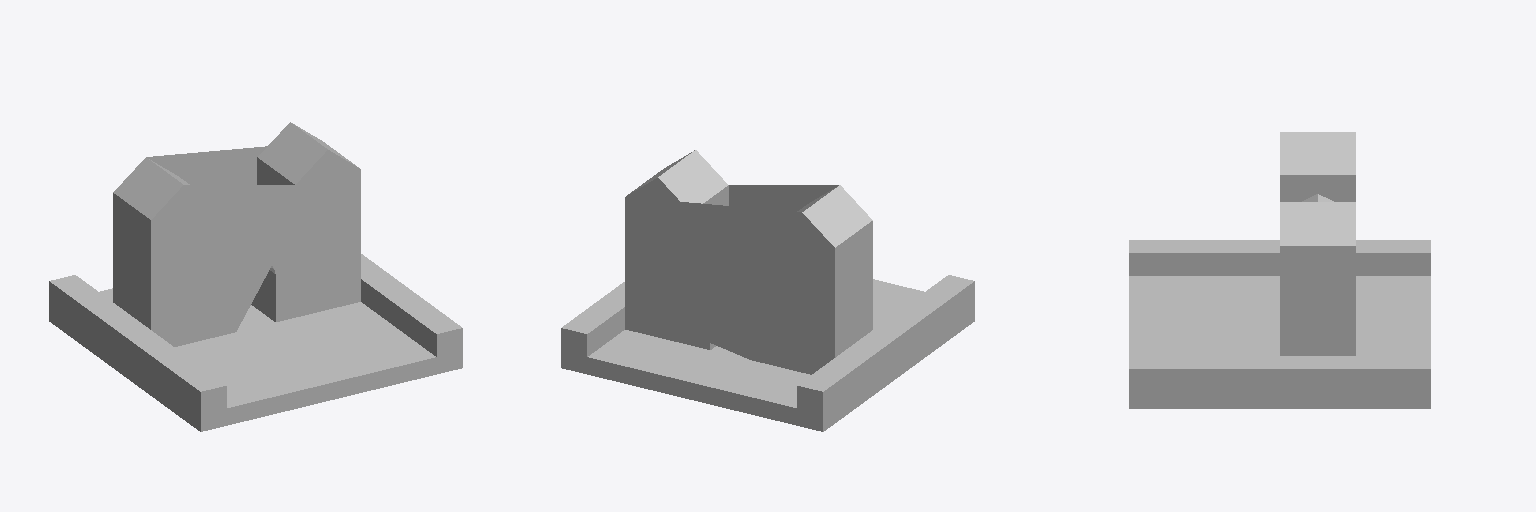
The model's file is Castle_01.obj.
3 renders of one model, left to right at view 1: azimuth 30°, elevation 25°; view 2: azimuth 150°, elevation 25°; view 3: azimuth 270°, elevation 25°, orthographic.
Parts seen in each view (by area): view 1: Mesh1 Castle Model; view 2: Mesh1 Castle Model; view 3: Mesh1 Castle Model.
Part boxes in pixels (bbox=[...]): Mesh1 Castle Model: bbox=[49, 122, 462, 431]; Mesh1 Castle Model: bbox=[561, 150, 974, 431]; Mesh1 Castle Model: bbox=[1129, 132, 1430, 408].
Size of the model in its own units: 3 by 1.94 by 3.